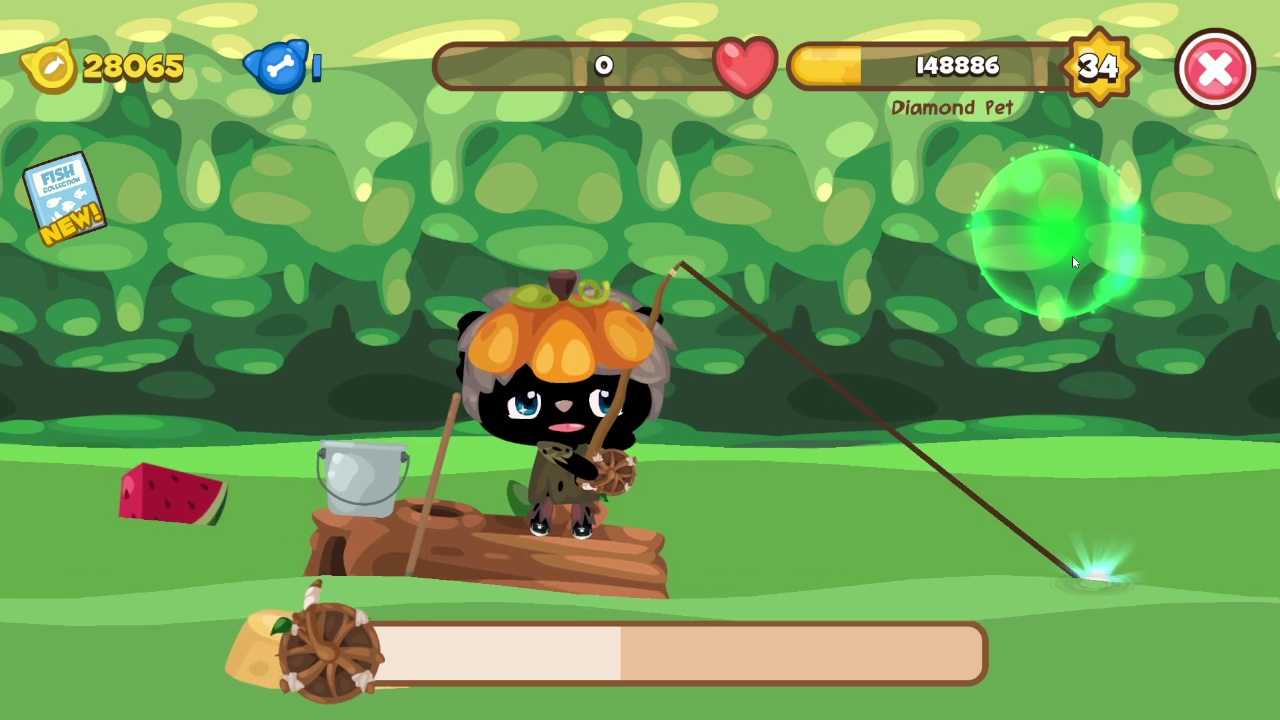point: (971, 149, 1145, 325)
